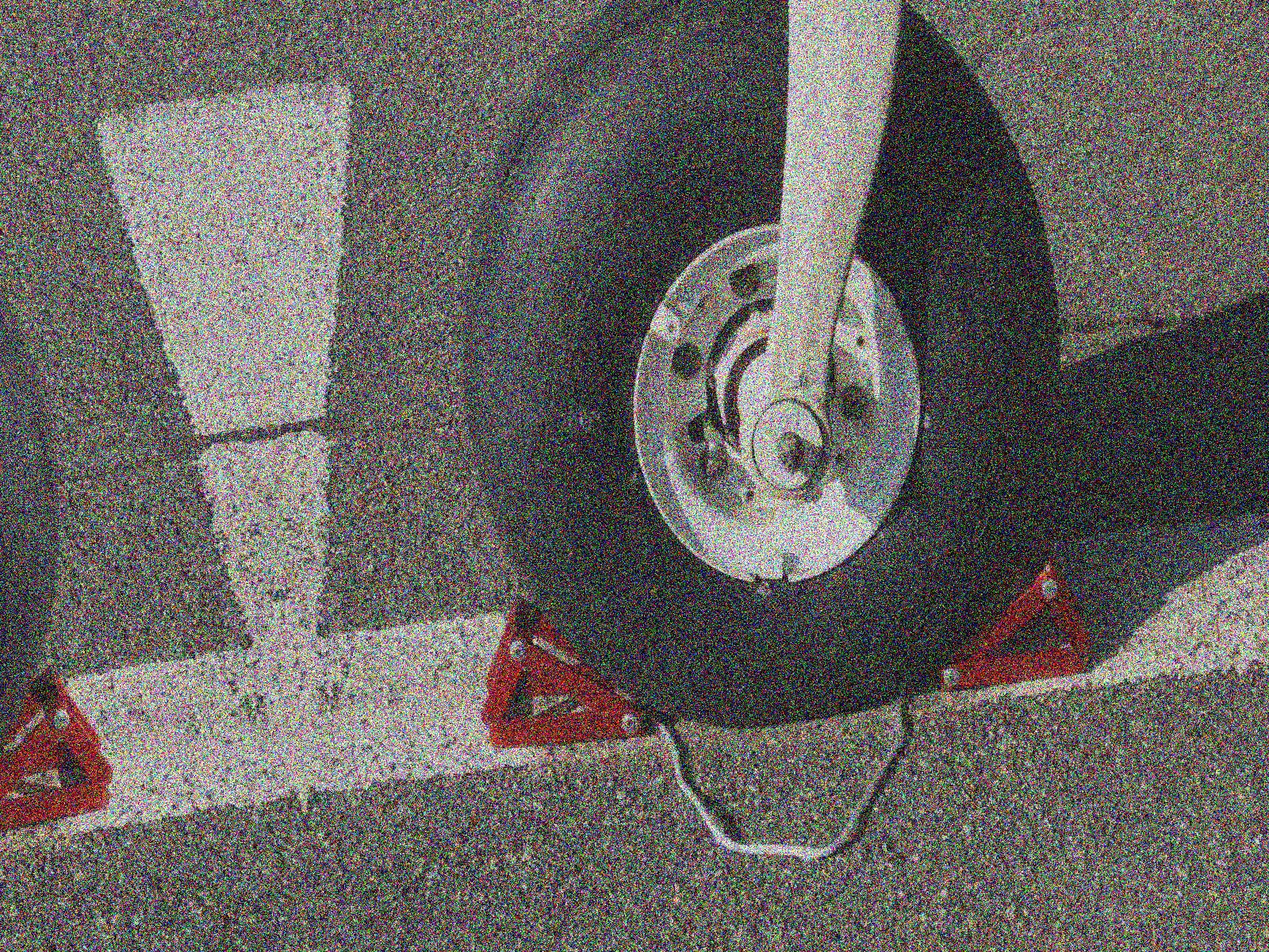chock: (460, 577, 651, 761), (920, 530, 1104, 697), (0, 657, 125, 841)
wheel: (410, 0, 1096, 750)
